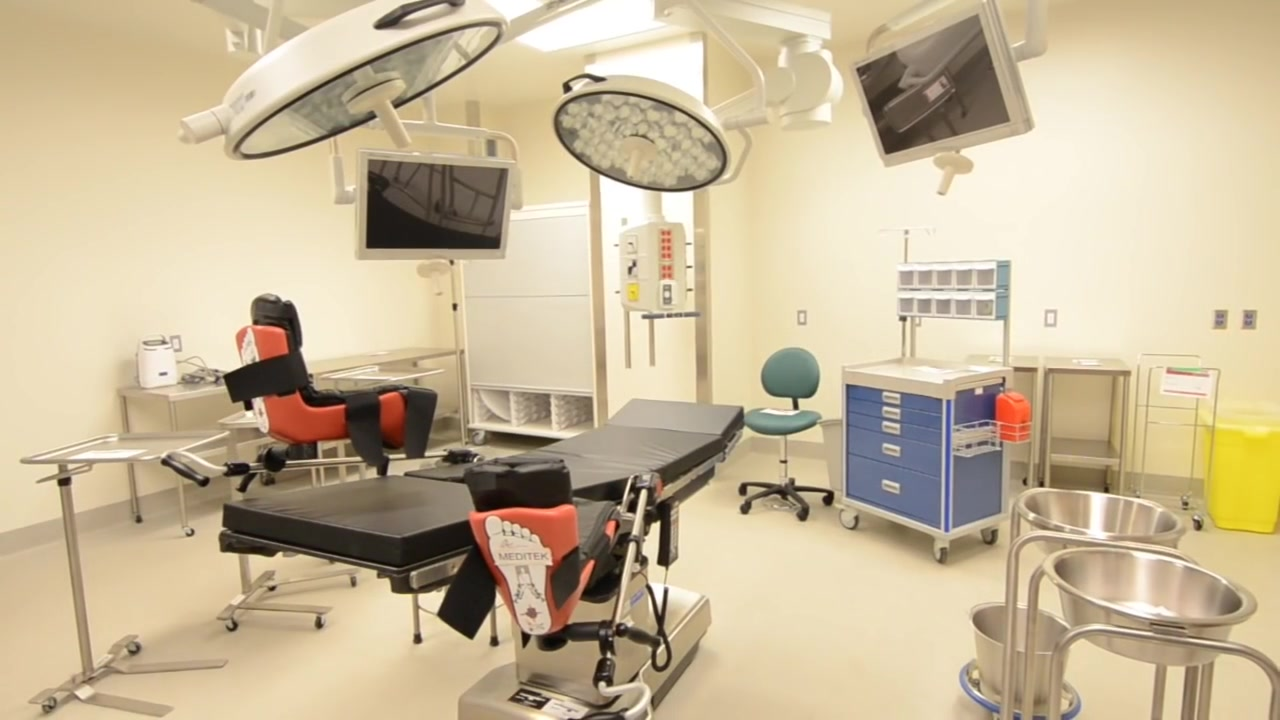bedside_monitor: (852, 1, 1035, 168), (353, 157, 515, 261)
chair: (738, 345, 833, 519)
handle: (882, 443, 900, 456), (882, 481, 900, 494), (882, 407, 901, 419), (882, 422, 900, 434), (883, 393, 900, 403)
iv_pole: (875, 225, 940, 357)
medical_drawer: (841, 353, 1012, 562)
operating_bed: (219, 398, 741, 720)
surgical_light: (172, 1, 512, 162), (555, 60, 735, 202)
utility_cart: (19, 431, 237, 720), (308, 346, 468, 470), (118, 371, 231, 537), (1135, 354, 1222, 535), (1046, 354, 1132, 494), (962, 350, 1048, 486), (322, 361, 445, 388)
waste_bin: (1203, 404, 1280, 536)
